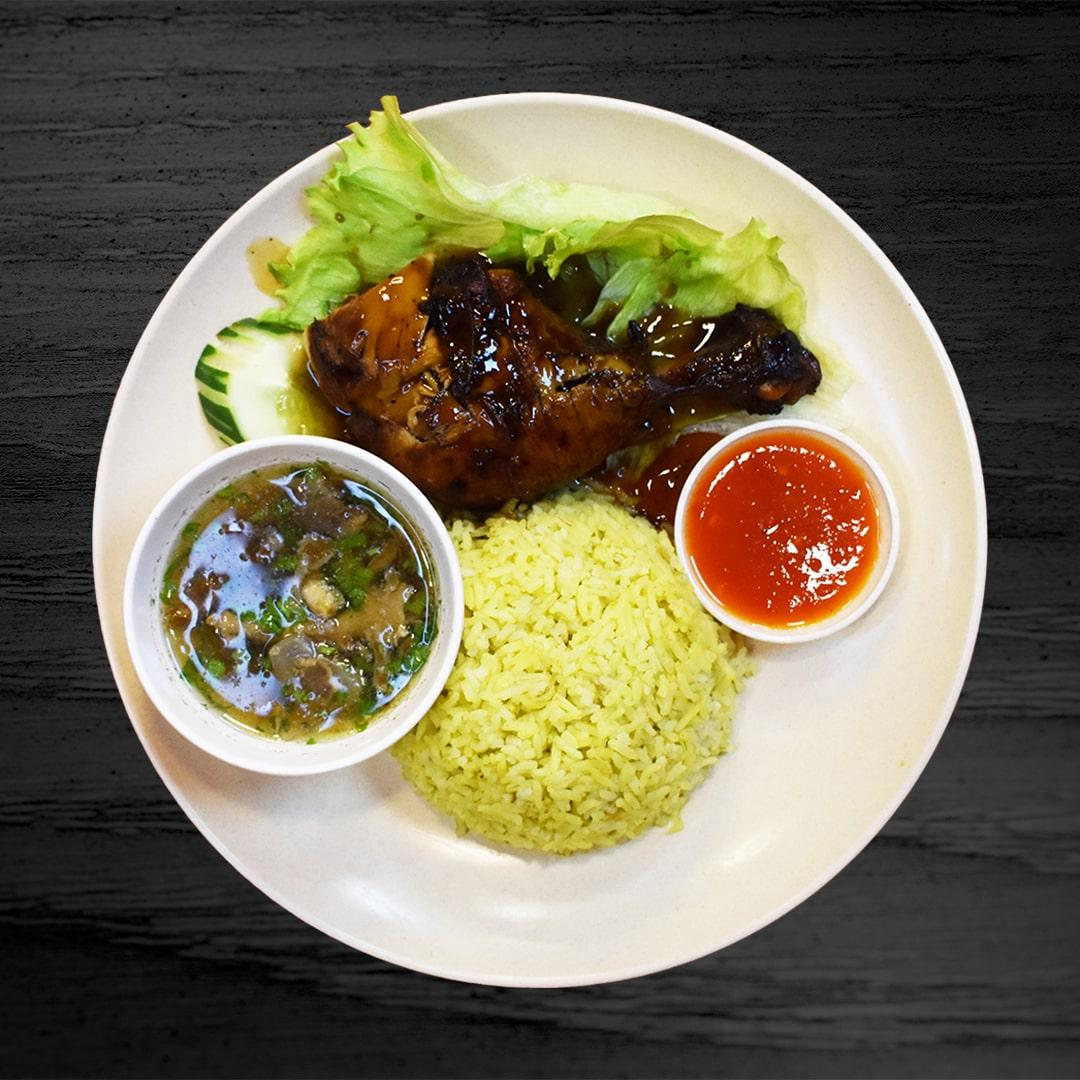buah_sayur_lainnya: (213, 493, 370, 694)
buah_sayur_vitA: (735, 461, 861, 593)
daging: (355, 324, 648, 433)
makanan_berpati: (481, 578, 639, 790)
